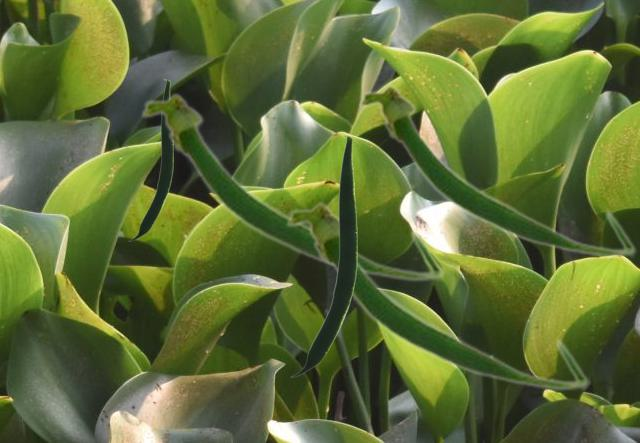french_bean: (139, 90, 444, 282), (284, 199, 589, 391), (357, 82, 636, 258), (290, 135, 356, 376), (128, 79, 172, 240)
